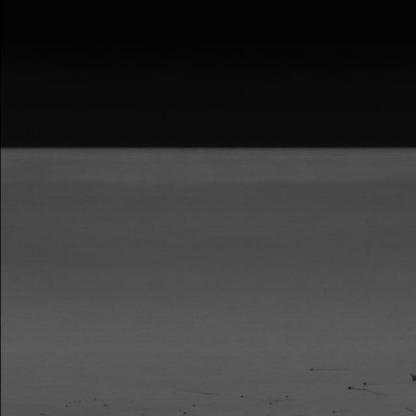inclusion: (237, 391, 289, 408), (344, 377, 374, 395)
